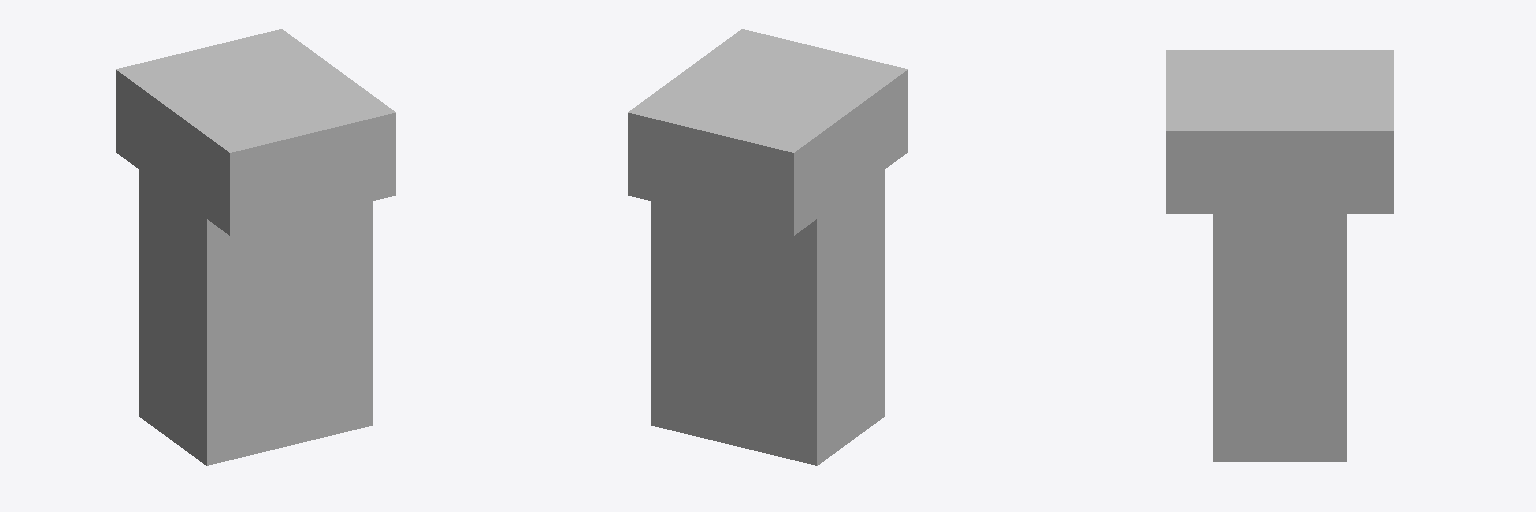
File: Corner Wall.obj
3 renders of one model, left to right at view 1: azimuth 30°, elevation 25°; view 2: azimuth 150°, elevation 25°; view 3: azimuth 270°, elevation 25°, orthographic.
Parts seen in each view (by area): view 1: pCube2; view 2: pCube2; view 3: pCube2.
Part boxes in pixels (x1,y1,x2,y2): pCube2: (116, 29, 395, 465); pCube2: (628, 29, 907, 465); pCube2: (1166, 50, 1393, 461).
Size of the model in its own units: 0.7036 by 1.34 by 0.8386.